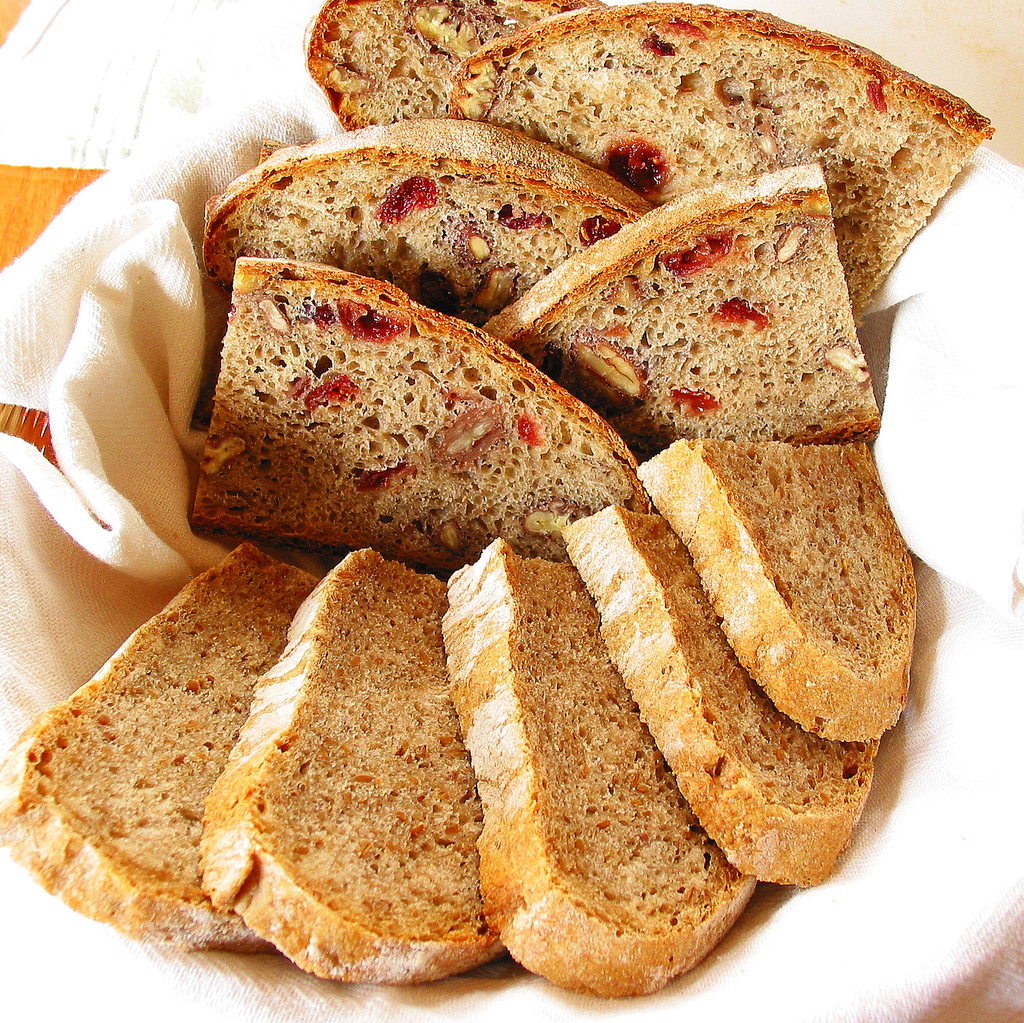slice of bread: (53, 5, 978, 994), (15, 556, 494, 989), (458, 527, 778, 996), (183, 257, 656, 556), (652, 437, 934, 746)
